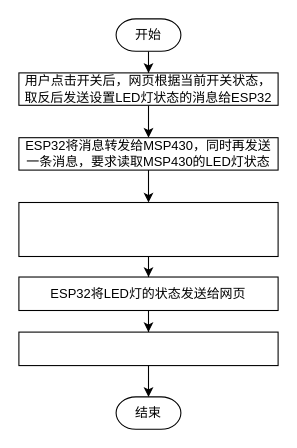
The diagram is 297 pixels wide and 448 high, and some of its shapes have lost their labels. The shapes that lost their labels are listed below. From the top down, each one's centre as x and y in pixels, then its label:
At point (148, 228): "MSP430收到第一条消息，按要求设定LED灯的状态后收到第二条消息，读取LED灯的状态后发送给ESP32".
At point (148, 348): "网页收到消息后更新开关的状态".
